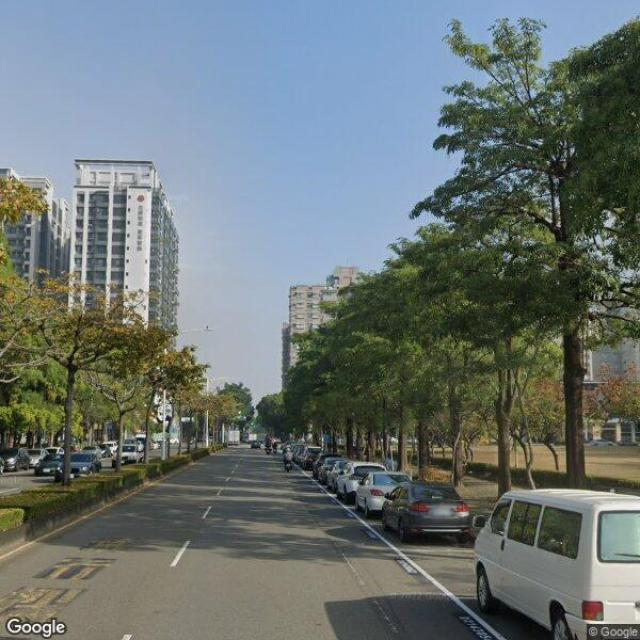Legalparking: (313, 454, 639, 639)
illegalparking: (70, 450, 101, 477), (35, 453, 63, 480), (123, 445, 143, 464)
